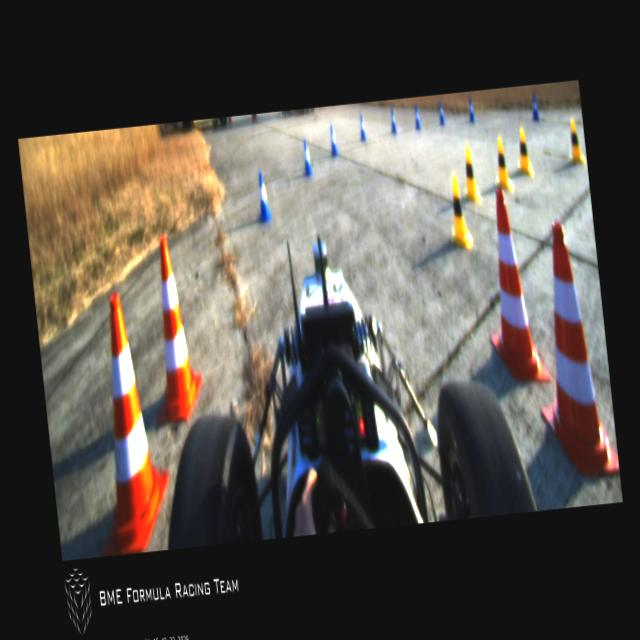blue_cone: (255, 170, 272, 224), (300, 140, 312, 175), (328, 123, 338, 158), (388, 106, 398, 134), (530, 94, 540, 122), (466, 96, 476, 122), (357, 114, 366, 142), (413, 104, 421, 130), (437, 100, 445, 126)
large_orange_cone: (74, 290, 174, 556), (520, 217, 620, 483), (474, 185, 552, 386), (137, 232, 206, 427)
yellow_cone: (443, 172, 473, 250), (458, 144, 482, 204), (490, 136, 513, 190), (512, 127, 534, 177), (564, 118, 585, 164)
